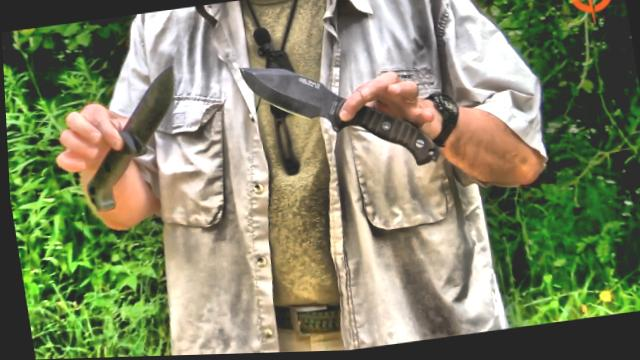knife: (234, 42, 441, 192), (65, 63, 192, 219)
